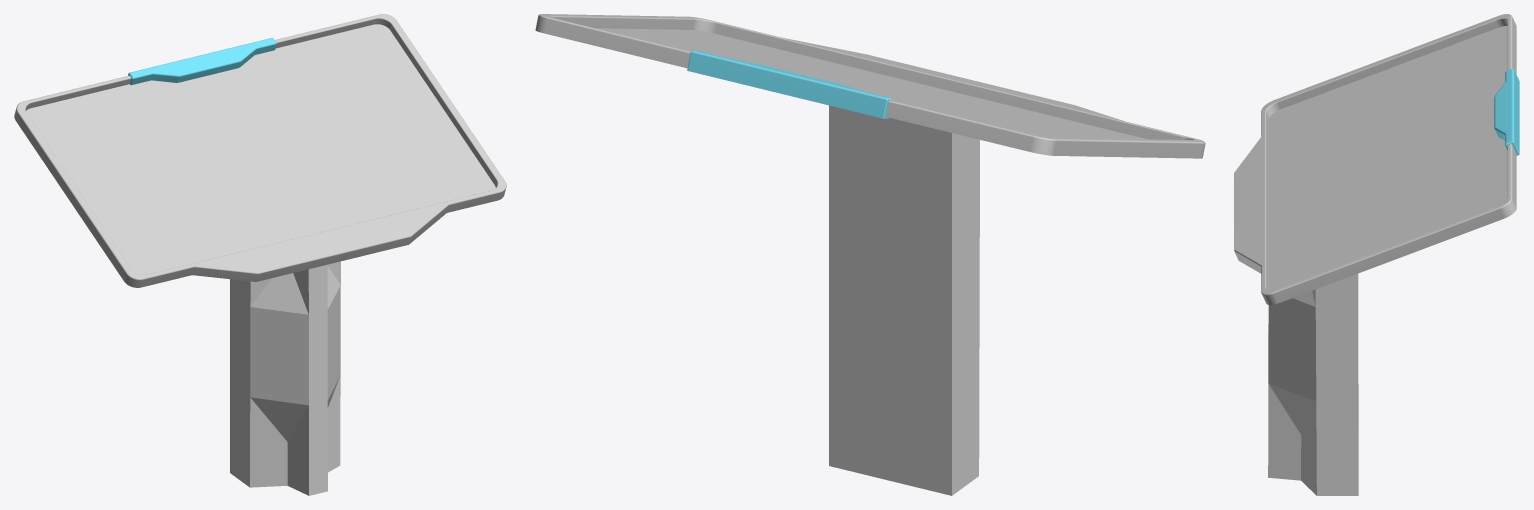
File: Controller.fbx
3 renders of one model, left to right at view 1: azimuth 30°, elevation 25°; view 2: azimuth 150°, elevation 25°; view 3: azimuth 270°, elevation 25°, orthographic. The views are drawn at different scales.
Parts seen in each view (by area): view 1: Monitor, Foot, Light_Top; view 2: Foot, Monitor, Light_Top; view 3: Monitor, Foot, Light_Top.
Boxes of the visible parts, <box> form: Monitor: <box>14,14,506,287</box>; Foot: <box>230,261,340,495</box>; Light_Top: <box>128,38,276,85</box>; Foot: <box>829,105,979,495</box>; Monitor: <box>535,14,1205,158</box>; Light_Top: <box>687,51,892,118</box>; Monitor: <box>1234,14,1516,305</box>; Foot: <box>1268,273,1358,495</box>; Light_Top: <box>1494,69,1519,155</box>.
Bounding box in the file's own units: 284 × 252 × 177.
